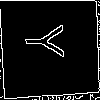Y: (25, 23, 76, 59)
